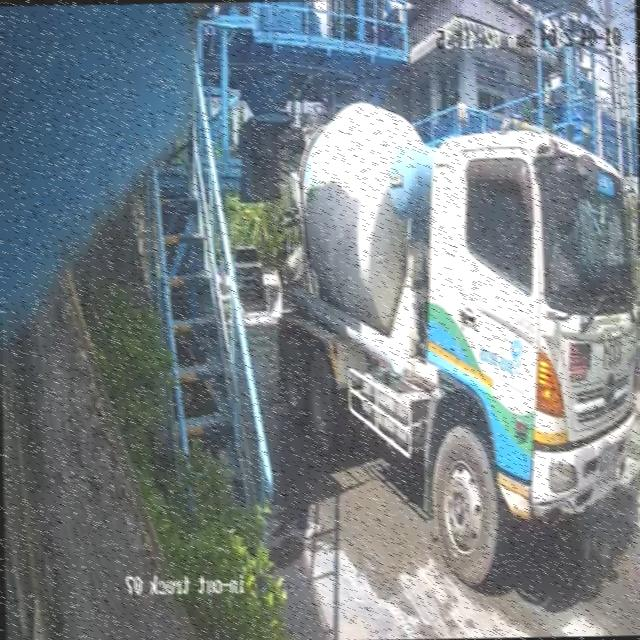cement_mixer_truck: (278, 101, 640, 584)
